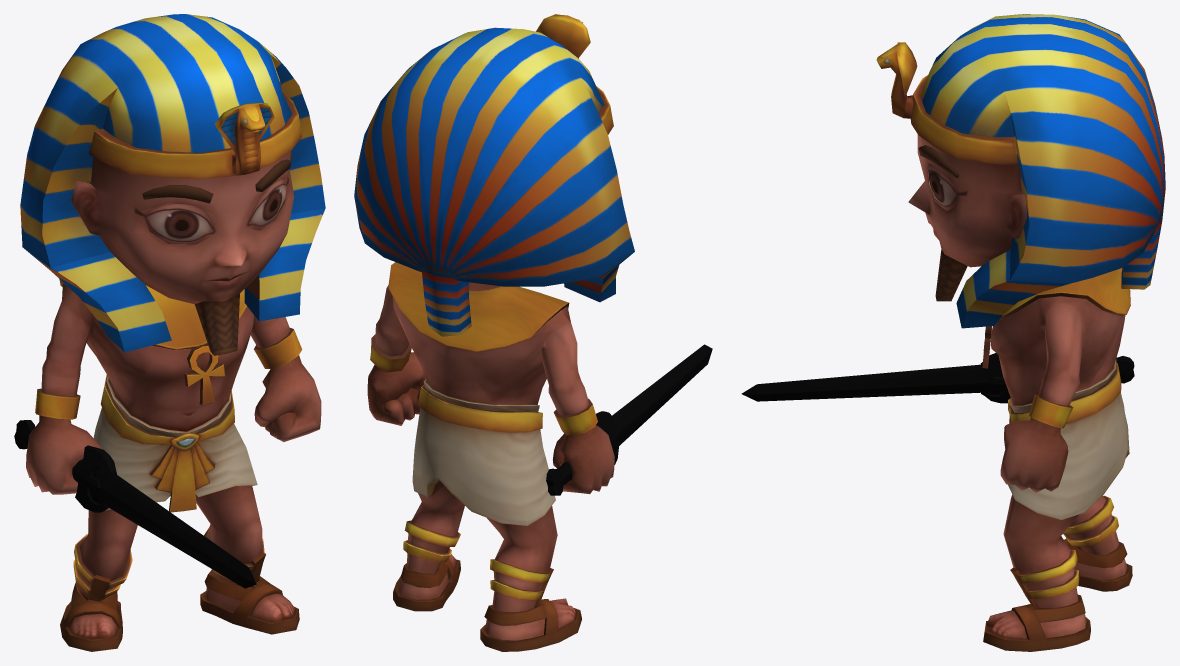
File: egyptian.obj
3 renders of one model, left to right at view 1: azimuth 30°, elevation 25°; view 2: azimuth 150°, elevation 25°; view 3: azimuth 270°, elevation 25°, orthographic. The views are drawn at different scales.
Visible parts, largest first — view 1: egyptian_B, sword; view 2: egyptian_B, sword; view 3: egyptian_B, sword.
Boxes of the visible parts, left/top/right/bottom form: egyptian_B: left=20, top=14, right=325, bottom=651; sword: left=14, top=420, right=256, bottom=588; egyptian_B: left=354, top=14, right=634, bottom=651; sword: left=546, top=344, right=712, bottom=495; egyptian_B: left=876, top=14, right=1165, bottom=651; sword: left=741, top=353, right=1134, bottom=403.
Bounding box in the file's own units: 58.81 × 123 × 82.36.
Materials: 2 (1 with a texture image).
